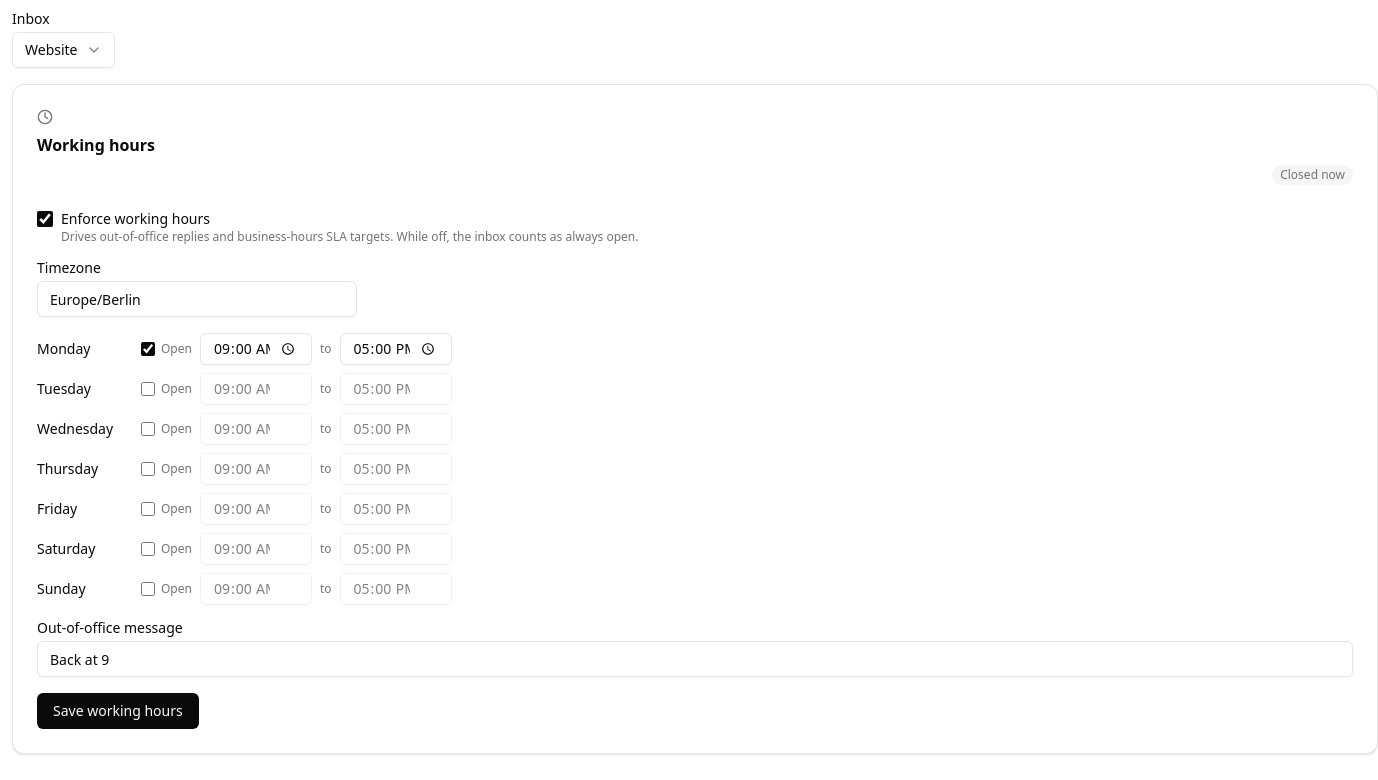
Test: WorkingHoursPanel › blocks saving when a day closes before it opens
Replace the text in the time field named "Monday opening time" with "20:00" at (256, 349), box [200,333,312,365]
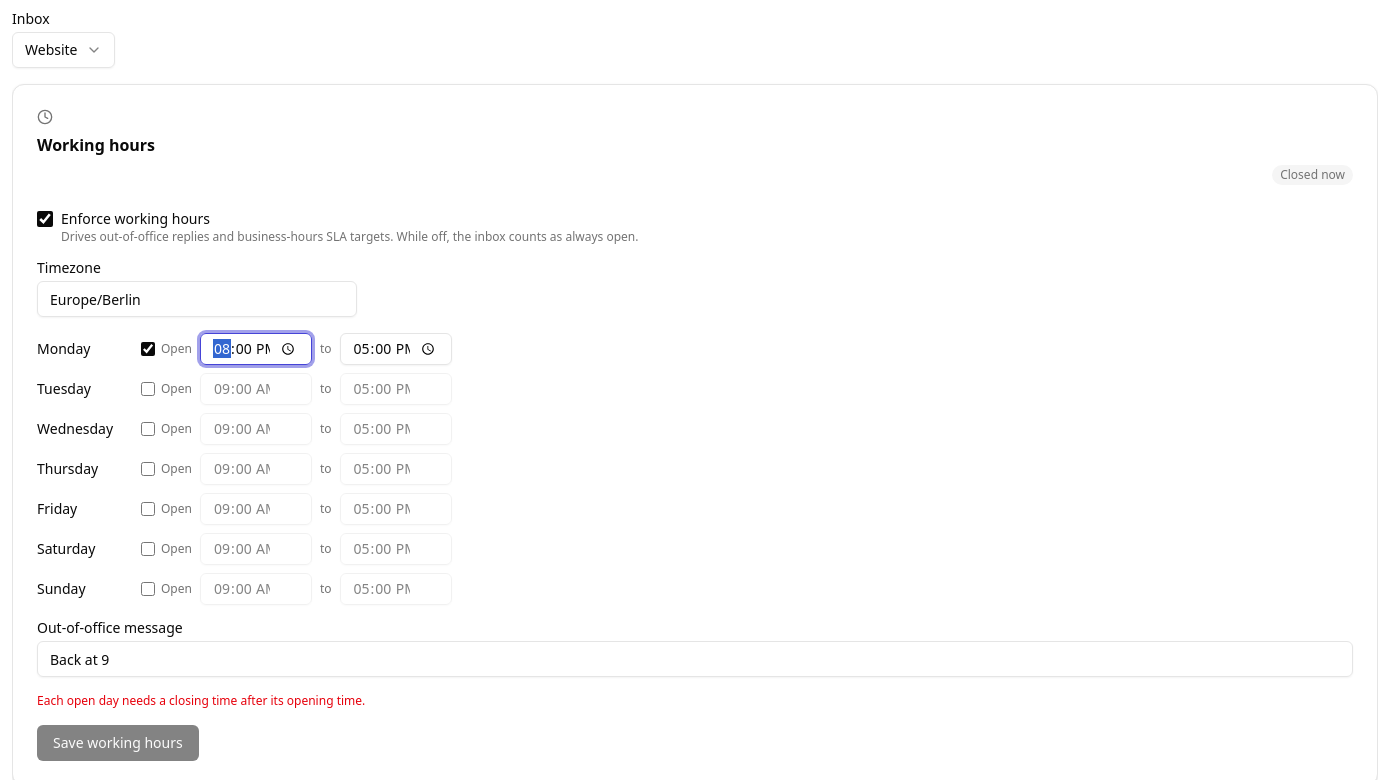
Now the text "Each open day needs a closing time after its opening time." is shown, box [37,692,365,709]
Now the button "Save working hours" is disabled, box [37,725,199,761]
